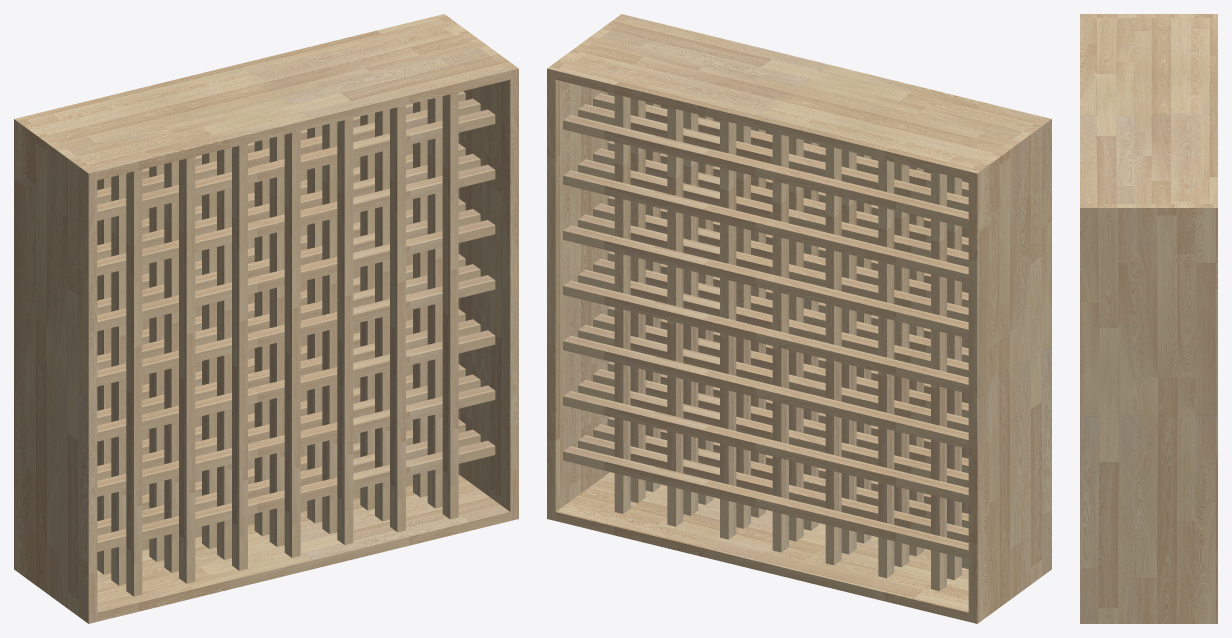
3 views of the same model, side by side, from view 1: azimuth 30°, elevation 25°; view 2: azimuth 150°, elevation 25°; view 3: azimuth 270°, elevation 25° (orthographic). The views are drawn at different scales.
Visible parts, largest first — view 1: Korpus side.003, Korpus bund_top.001, Korpus side.002, Korpus bund_top, Lamel.011, Lamel.008, Lamel.010, Lamel.013, Lamel.007, Lamel.012, Lamel.009, Lamel (+33 smaller); view 2: Korpus side.003, Korpus bund_top.001, Korpus bund_top, Korpus side.002, Lamel.052, Lamel.051, Lamel.054, Lamel.049, Lamel.050, Lamel.053, Lamel.055, Lamel.042 (+33 smaller); view 3: Korpus side.002, Korpus bund_top.001, Korpus side.003.
Part boxes in pixels (x1,y1,x2,y2): Korpus side.003: [14, 117, 97, 623]; Korpus bund_top.001: [23, 16, 510, 180]; Korpus side.002: [436, 14, 518, 520]; Korpus bund_top: [97, 474, 510, 621]; Lamel.011: [179, 156, 195, 583]; Lamel.008: [442, 92, 458, 519]; Lamel.010: [337, 118, 353, 544]; Lamel.013: [126, 169, 142, 596]; Lamel.007: [284, 131, 300, 557]; Lamel.012: [232, 143, 247, 570]; Lamel.009: [390, 105, 405, 532]; Lamel: [97, 275, 495, 386]; Korpus side.003: [968, 117, 1051, 623]; Korpus bund_top.001: [555, 16, 1042, 180]; Korpus bund_top: [555, 472, 968, 621]; Korpus side.002: [547, 14, 629, 520]; Lamel.052: [563, 225, 968, 338]; Lamel.051: [563, 170, 968, 283]; Lamel.054: [563, 335, 968, 448]; Lamel.049: [563, 280, 968, 393]; Lamel.050: [563, 115, 968, 228]; Lamel.053: [563, 391, 968, 503]; Lamel.055: [563, 446, 968, 559]; Lamel.042: [772, 133, 788, 552]; Korpus side.002: [1080, 204, 1217, 623]; Korpus bund_top.001: [1080, 18, 1217, 203]; Korpus side.003: [1080, 14, 1217, 17].
Bounding box in the file's own units: 1 × 1 × 0.3.
1 material, 1 textured.
